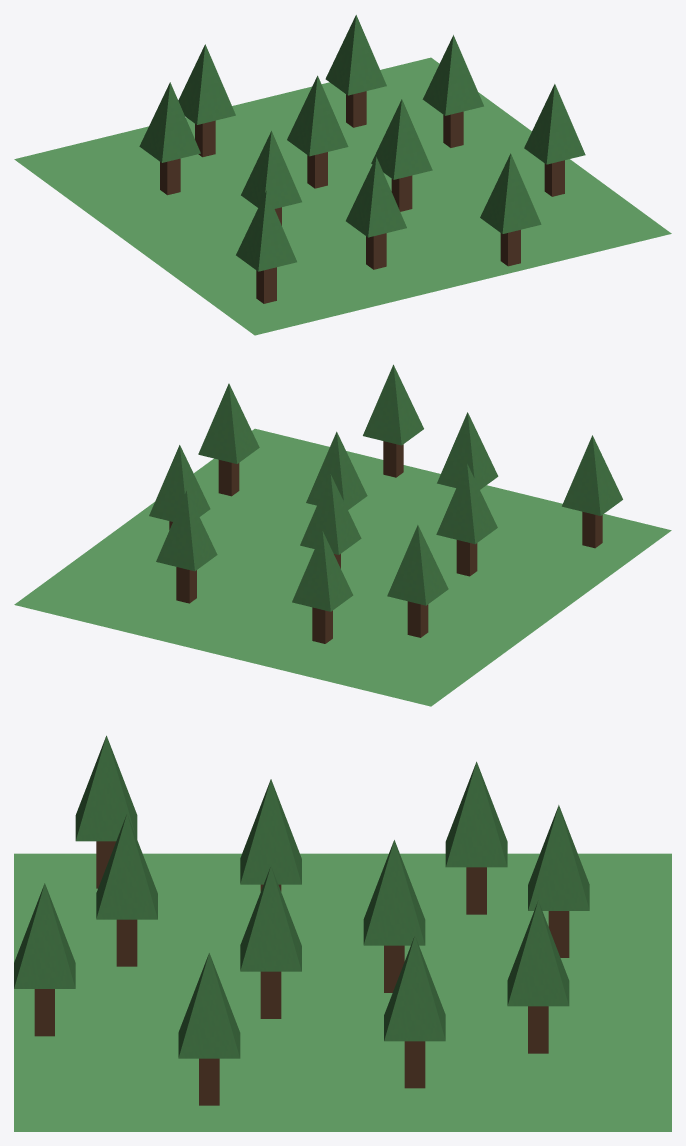
The model's file is outofbounds.8b7ad541.gltf.
The picture shows the model from 3 angles, top to bottom: view 1: azimuth 30°, elevation 25°; view 2: azimuth 150°, elevation 25°; view 3: azimuth 270°, elevation 25°; orthographic projection. The views are drawn at different scales.
Visible parts, largest first — view 1: plane, pyramid (×11), Tree Trunk (×10); view 2: plane, pyramid (×11), Tree Trunk (×7); view 3: plane, pyramid (×11), Tree Trunk (×9).
Boxes of the visible parts, left/top/right/bottom form: plane: left=14, top=57, right=671, bottom=335; pyramid (×11): left=139, top=15, right=585, bottom=271; Tree Trunk (×10): left=160, top=91, right=564, bottom=303; plane: left=14, top=428, right=671, bottom=706; pyramid (×11): left=149, top=364, right=622, bottom=611; Tree Trunk (×7): left=176, top=441, right=602, bottom=643; plane: left=14, top=853, right=671, bottom=1131; pyramid (×11): left=14, top=735, right=589, bottom=1058; Tree Trunk (×9): left=34, top=867, right=569, bottom=1105.
Size of the model in its own units: 2 by 0.5 by 2.
1 material, 1 textured.
